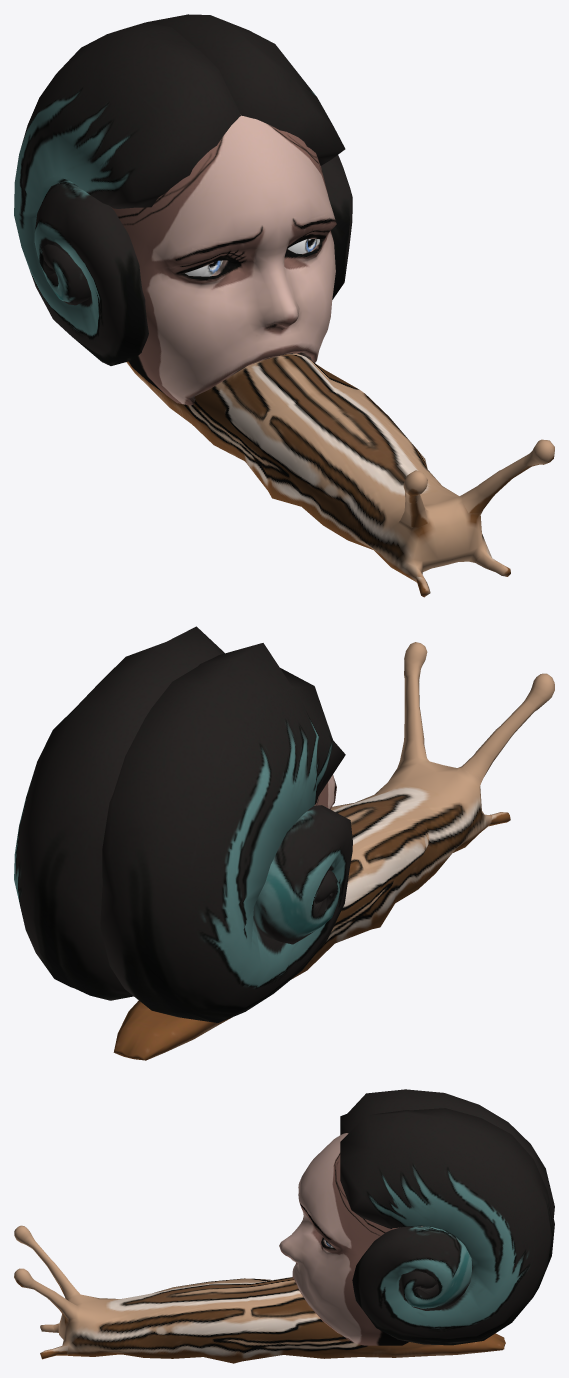
File: Snails.FBX
The picture shows the model from 3 angles, top to bottom: view 1: azimuth 30°, elevation 25°; view 2: azimuth 150°, elevation 25°; view 3: azimuth 270°, elevation 25°; orthographic projection. The views are drawn at different scales.
Visible parts, largest first — view 1: Hair-R, Head, default, Hair-L; view 2: Hair-R, Hair-L, default; view 3: Hair-L, default, Head, Hair-R.
Boxes of the visible parts, x1,y1,x2,y2 form: Hair-R: (14,22,240,365); Head: (110,115,336,405); default: (126,353,554,597); Hair-L: (146,14,352,299); Hair-R: (100,643,352,1022); Hair-L: (14,626,224,1000); default: (113,642,554,1060); Hair-L: (340,1108,554,1345); default: (14,1225,505,1363); Head: (279,1133,422,1345); Hair-R: (340,1089,554,1217).
Size of the model in its own units: 23.92 by 28.6 by 57.18.
